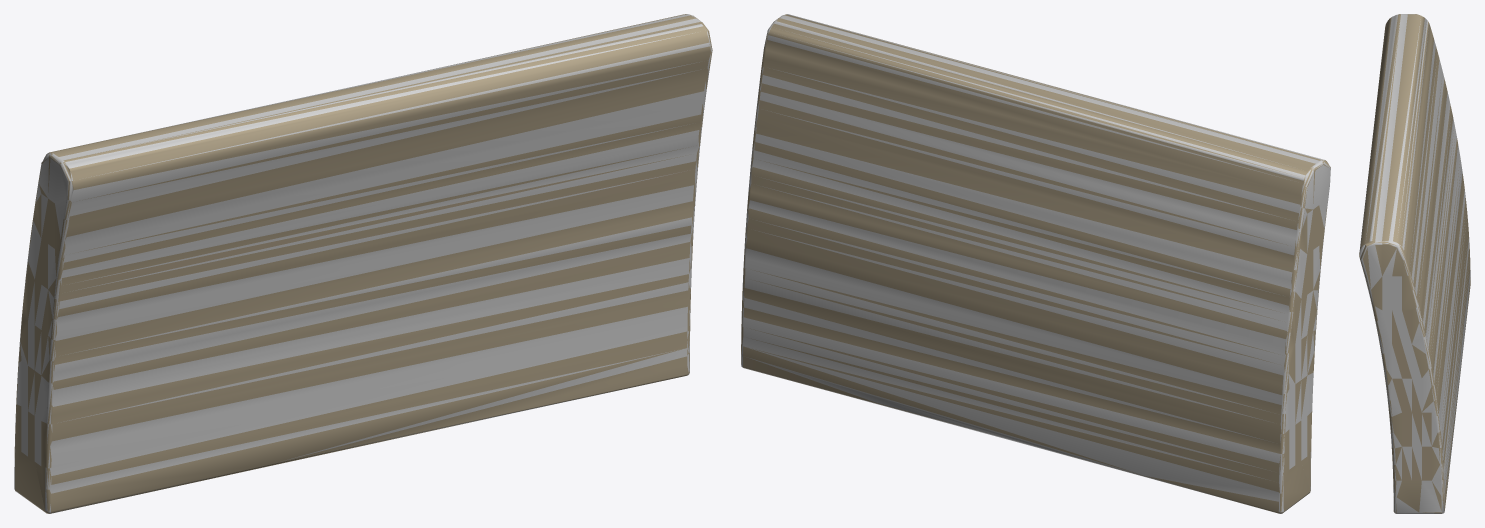
File: left_arm.obj
3 renders of one model, left to right at view 1: azimuth 30°, elevation 25°; view 2: azimuth 150°, elevation 25°; view 3: azimuth 270°, elevation 25°, orthographic. The views are drawn at different scales.
Visible parts, largest first — view 1: left_arm_mesh4.002_mesh4-geometry; view 2: left_arm_mesh4.002_mesh4-geometry; view 3: left_arm_mesh4.002_mesh4-geometry.
Part boxes in pixels (bbox=[...]): left_arm_mesh4.002_mesh4-geometry: bbox=[14, 14, 712, 513]; left_arm_mesh4.002_mesh4-geometry: bbox=[741, 14, 1330, 513]; left_arm_mesh4.002_mesh4-geometry: bbox=[1359, 14, 1470, 513].
Bounding box in the file's own units: 0.436 × 0.2417 × 0.0894.
